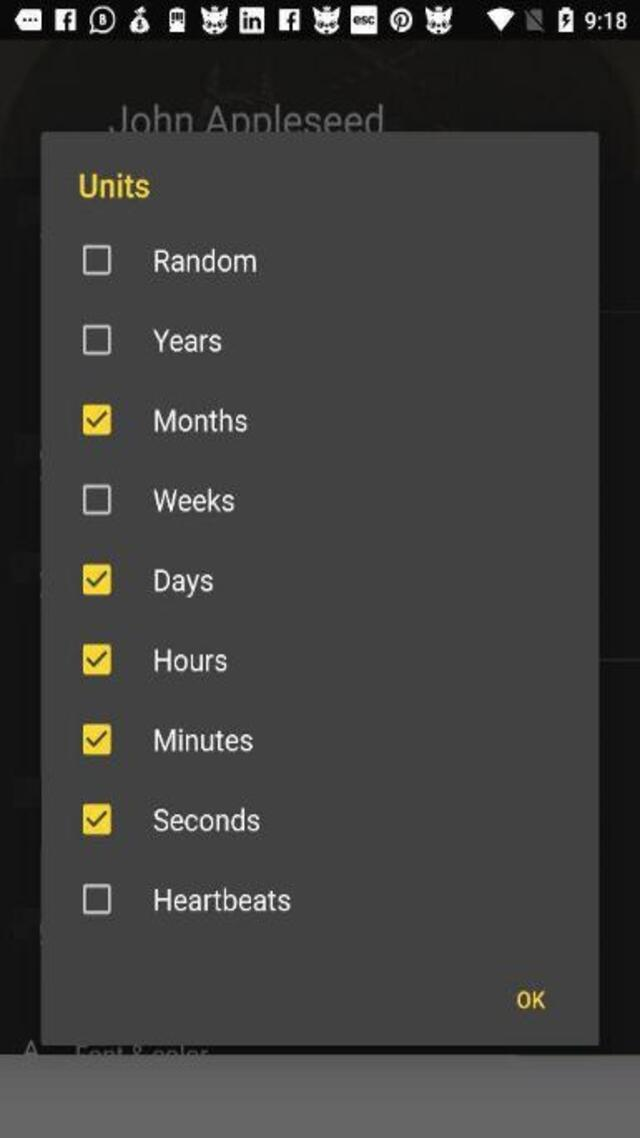CheckedTextView: (82, 882, 290, 914), (82, 243, 257, 276), (82, 802, 260, 834), (81, 402, 248, 436), (83, 723, 253, 756), (82, 482, 235, 516), (82, 644, 227, 676), (82, 323, 222, 356), (82, 562, 214, 596)
Text: (155, 886, 291, 910), (154, 247, 258, 272), (155, 806, 261, 830), (154, 407, 248, 432), (154, 728, 252, 751), (78, 171, 151, 199), (152, 486, 234, 510), (156, 566, 213, 596), (154, 648, 228, 671), (151, 330, 221, 353), (514, 989, 546, 1010)
